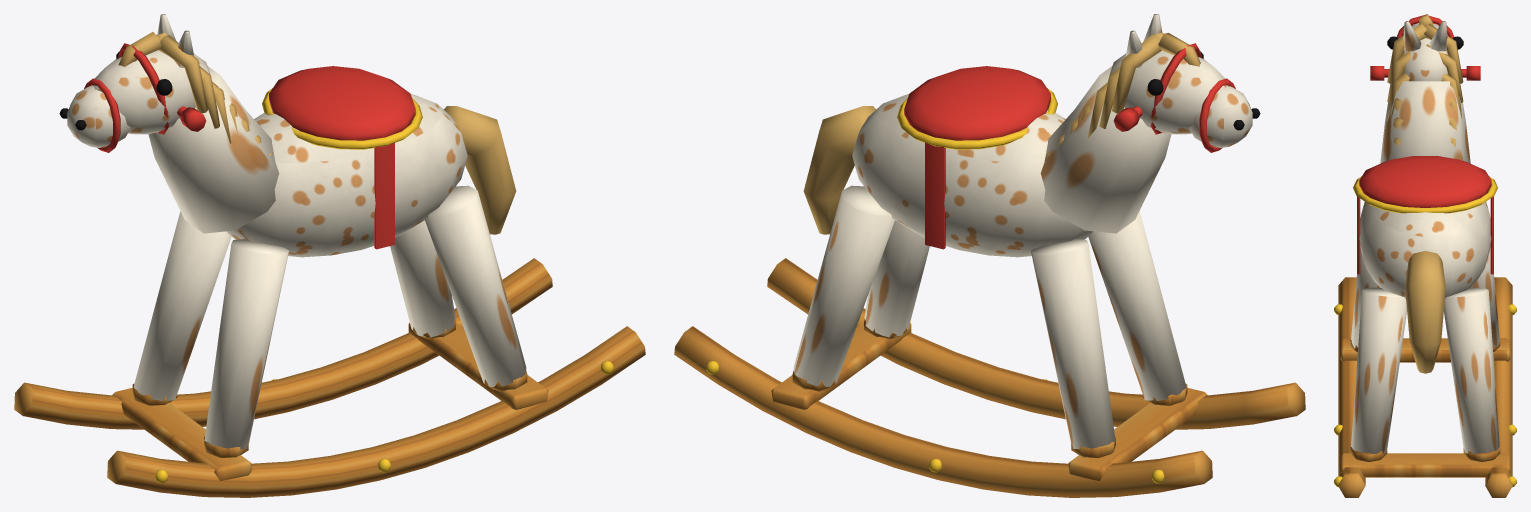
The model's file is rocking_horse.glb.
3 views of the same model, side by side, from view 1: azimuth 30°, elevation 25°; view 2: azimuth 150°, elevation 25°; view 3: azimuth 270°, elevation 25° (orthographic). The views are drawn at different scales.
Parts seen in each view (by area): view 1: model; view 2: model; view 3: model.
Part boxes in pixels (<box>): model: <box>14,14,645,497</box>; model: <box>674,14,1305,497</box>; model: <box>1334,14,1516,497</box>.
Bounding box in the file's own units: 0.856 × 0.7071 × 0.323.
6 materials, 2 textured.
